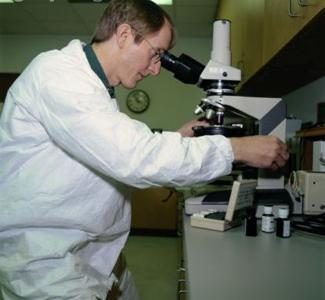person: (1, 2, 289, 300)
